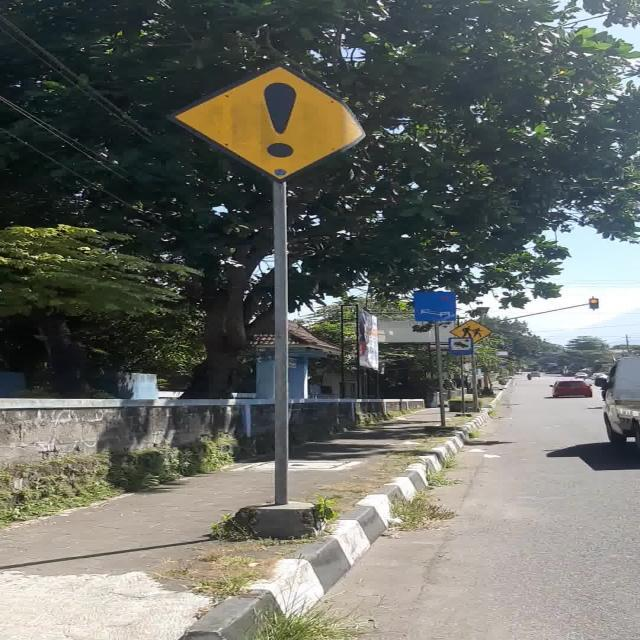Hati-Hati: (165, 63, 366, 184)
